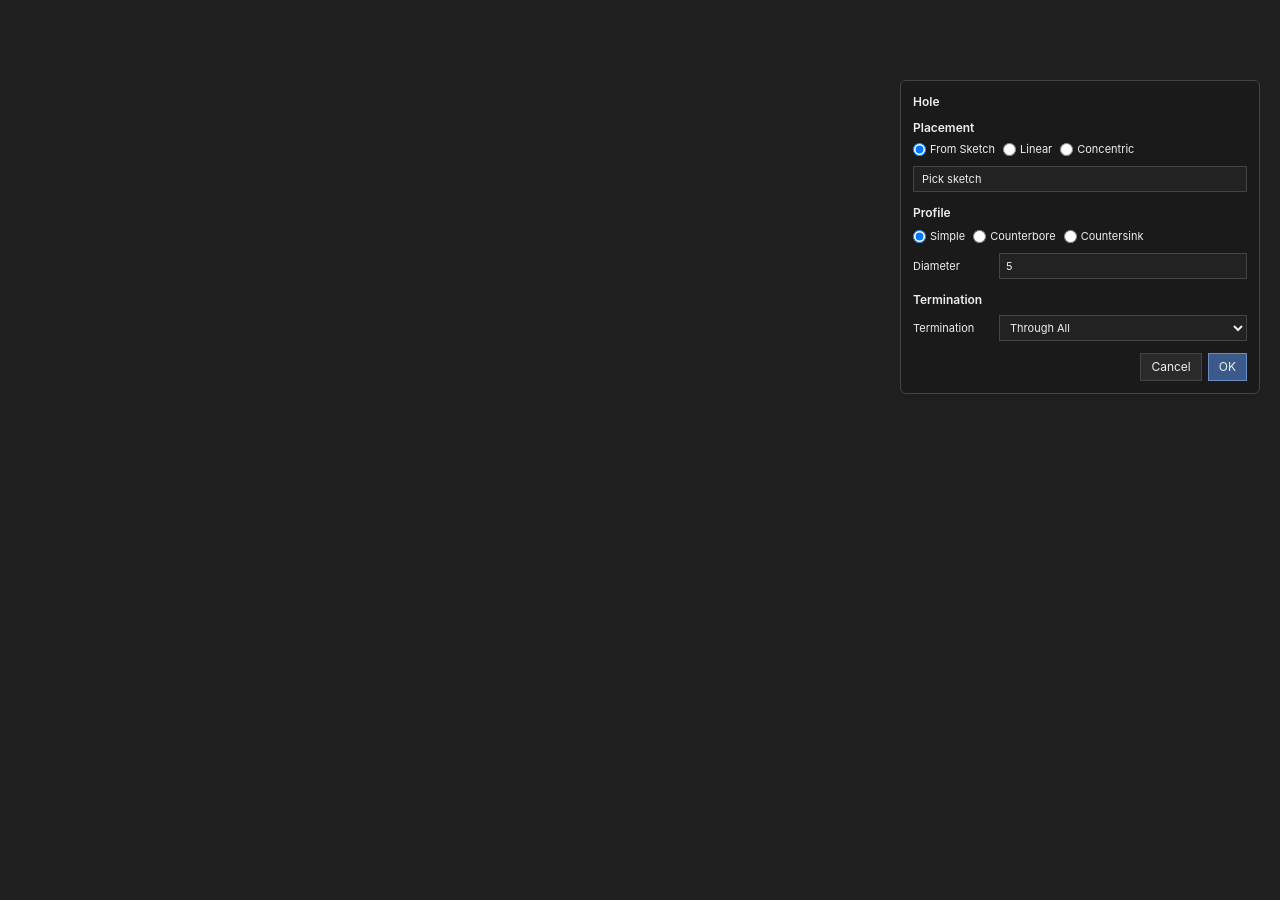
Scenario: HoleDialog › radio group switches mode-specific pick rows
Check: the button "Pick sketch" is shown, box 913,166 -> 1247,192
Click the radio button labelled "Linear".
click(1010, 149)  # box 1003,143 -> 1016,156
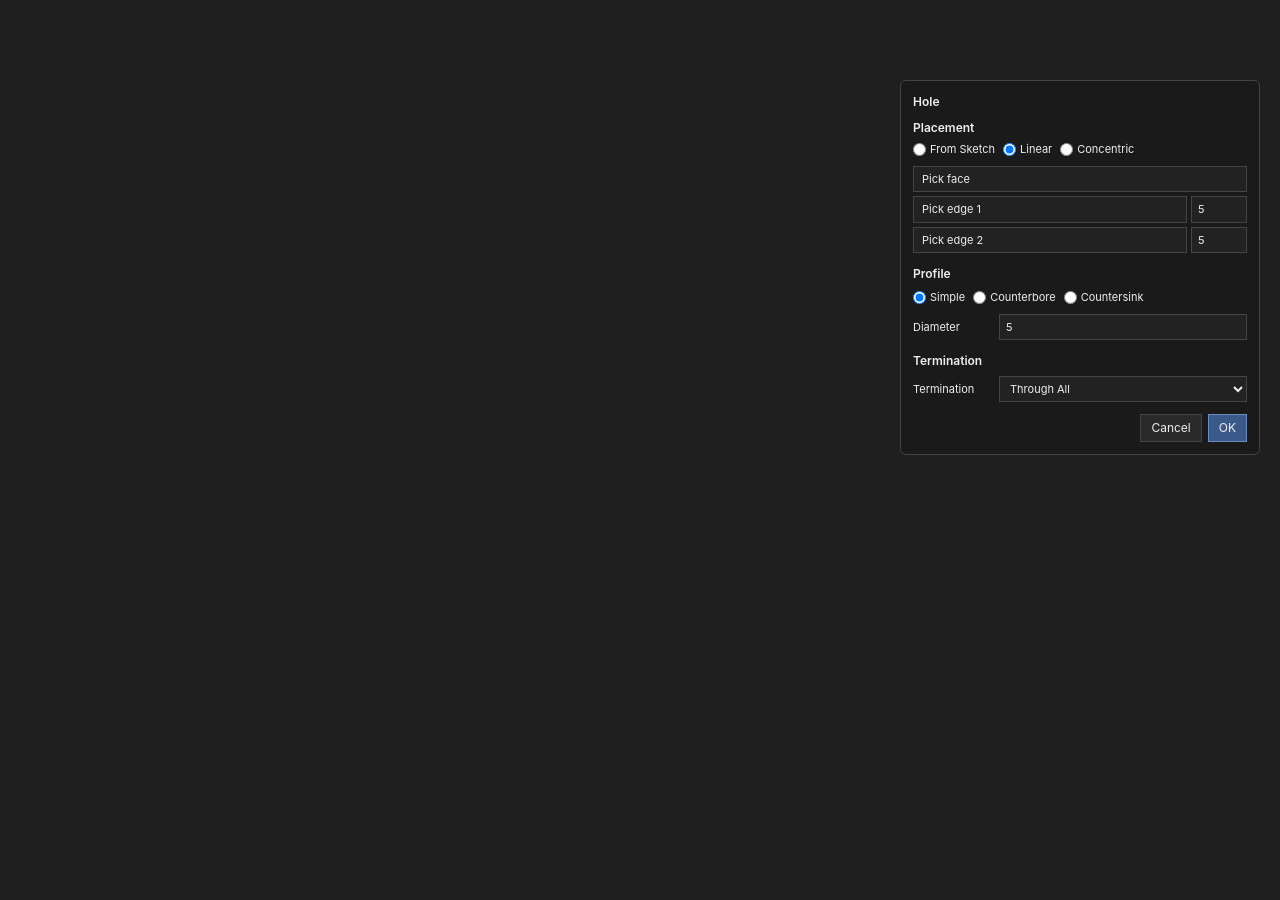
Check: the button "Pick edge 1" is shown, box 913,196 -> 1187,222
Check: the button "Pick sketch" is gone
Click the radio button labelled "Concentric".
click(1067, 149)  # box 1060,143 -> 1073,156
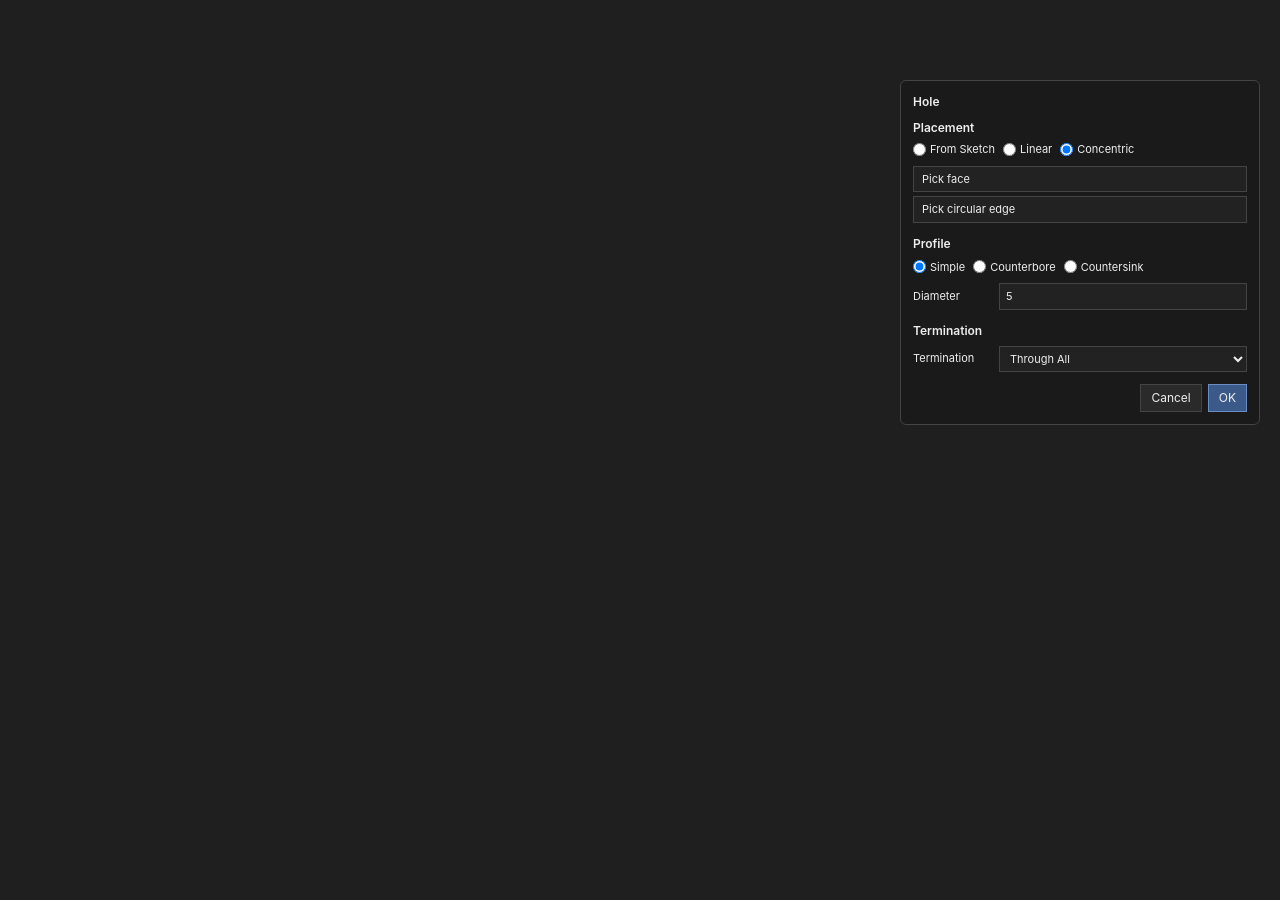
Check: the button "Pick circular edge" is shown, box 913,196 -> 1247,222
Check: the button "Pick edge 1" is gone
